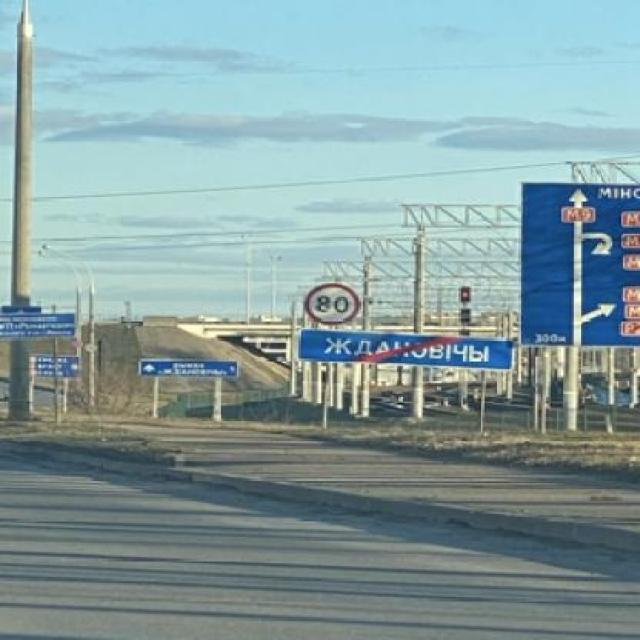forb_speed_over_80: (302, 282, 361, 326)
